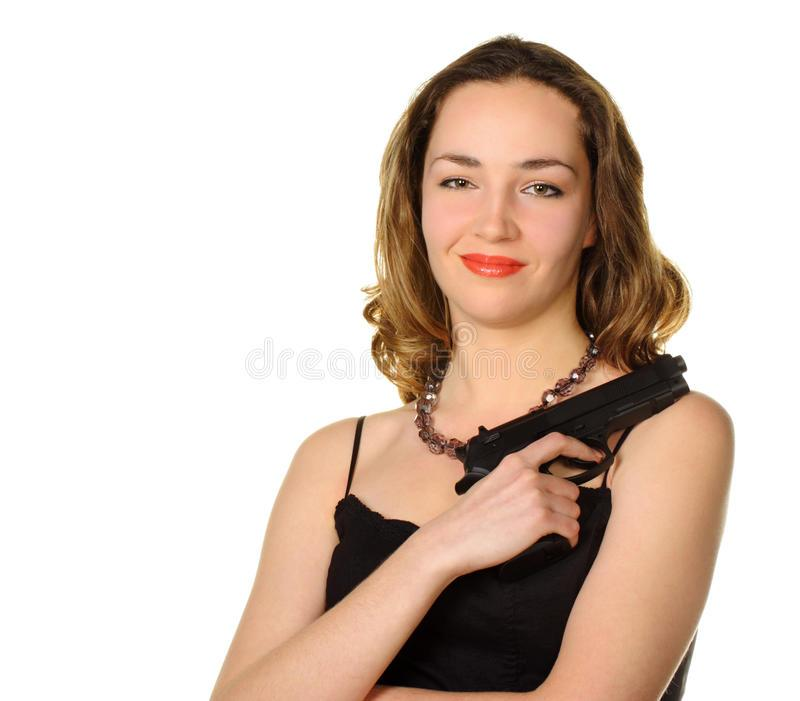criminal: (208, 30, 737, 701)
weapon: (451, 352, 695, 568)
